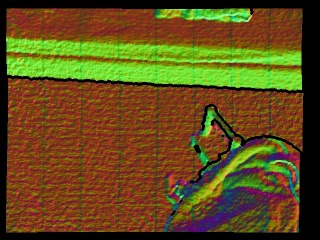station: (192, 104, 242, 169)
